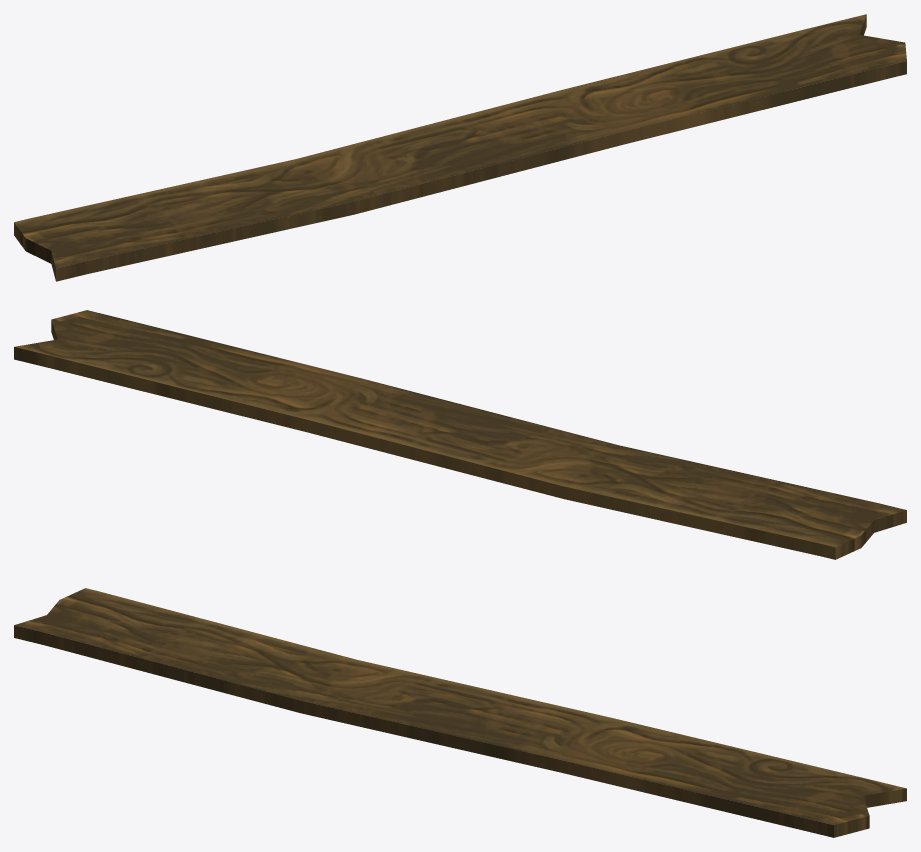
File: Plank_01.fbx
The picture shows the model from 3 angles, top to bottom: view 1: azimuth 30°, elevation 25°; view 2: azimuth 150°, elevation 25°; view 3: azimuth 330°, elevation 25°; orthographic projection. The views are drawn at different scales.
Visible parts, largest first — view 1: Plank_01; view 2: Plank_01; view 3: Plank_01.
Boxes of the visible parts, x1=… form: Plank_01: x1=14, y1=14, x2=906, y2=281; Plank_01: x1=14, y1=310, x2=906, y2=559; Plank_01: x1=14, y1=588, x2=906, y2=837.
Size of the model in its own units: 398 by 8.2 by 46.09.
